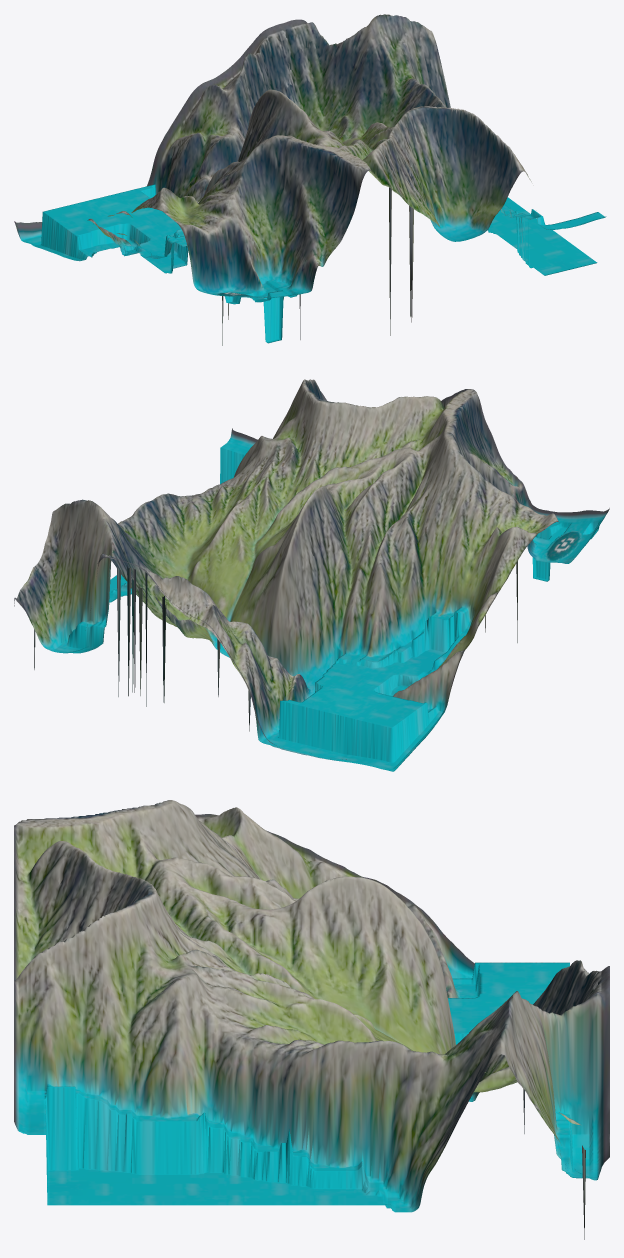
File: dsm_4e26d1ccef_mesh.glb
The picture shows the model from 3 angles, top to bottom: view 1: azimuth 30°, elevation 25°; view 2: azimuth 150°, elevation 25°; view 3: azimuth 270°, elevation 25°; orthographic projection. The views are drawn at different scales.
Parts seen in each view (by area): view 1: geometry_0; view 2: geometry_0; view 3: geometry_0.
Part boxes in pixels (bbox=[...]): geometry_0: bbox=[14, 14, 606, 345]; geometry_0: bbox=[14, 379, 609, 771]; geometry_0: bbox=[14, 800, 609, 1239].
Bounding box in the file's own units: 2 × 1 × 2.
